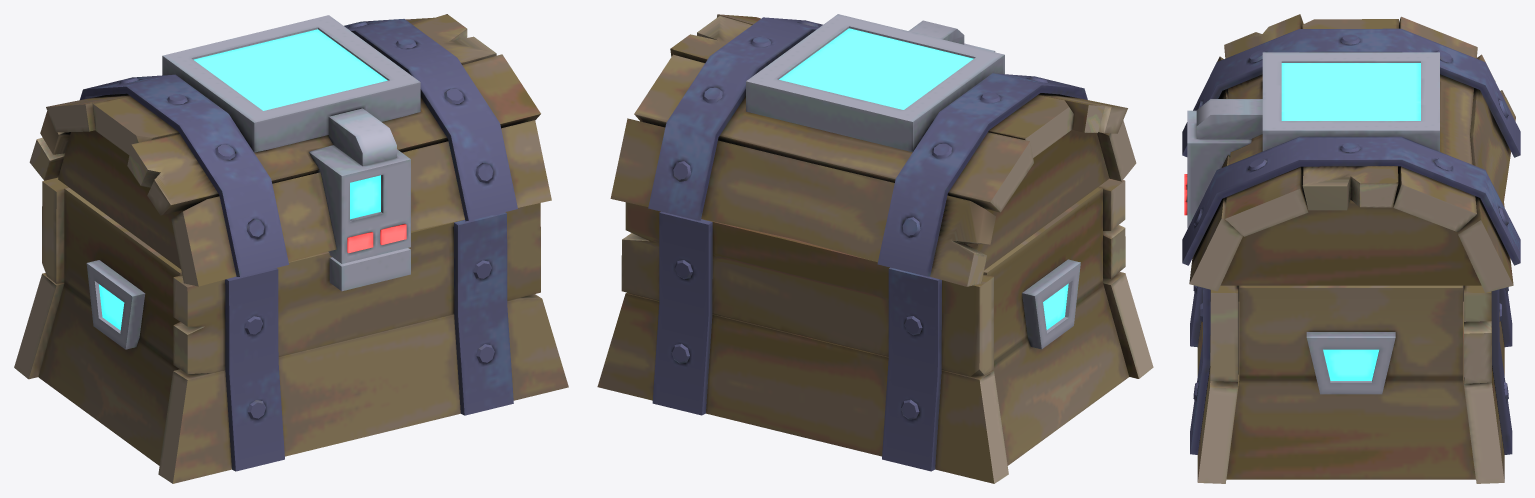
Rendered from chest1.glb.
3 views of the same model, side by side, from view 1: azimuth 30°, elevation 25°; view 2: azimuth 150°, elevation 25°; view 3: azimuth 270°, elevation 25° (orthographic). The views are drawn at different scales.
Parts seen in each view (by area): view 1: chest1_bottom, chest1_top; view 2: chest1_bottom, chest1_top; view 3: chest1_top, chest1_bottom.
Boxes of the visible parts, box(x1,y1,x2,y2) form: chest1_bottom: box(14, 177, 568, 483); chest1_top: box(29, 14, 551, 286); chest1_bottom: box(597, 178, 1153, 483); chest1_top: box(610, 14, 1136, 286); chest1_top: box(1182, 14, 1520, 292); chest1_bottom: box(1187, 228, 1512, 483).
Bounding box in the file's own units: 0.8077 × 0.6034 × 0.6191.
Materials: 2 (2 with a texture image).
